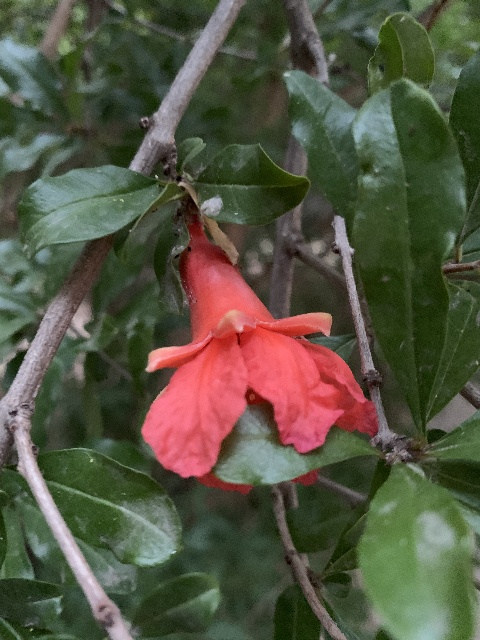flower: (140, 214, 377, 492)
